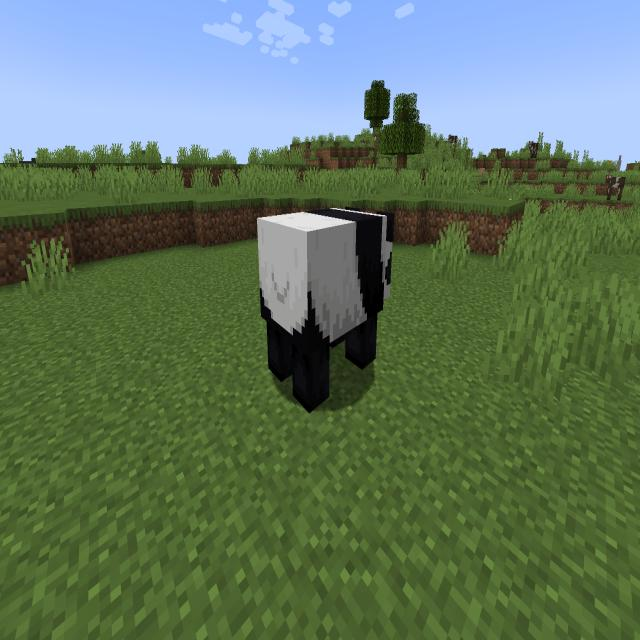Panda: (250, 196, 401, 430)
